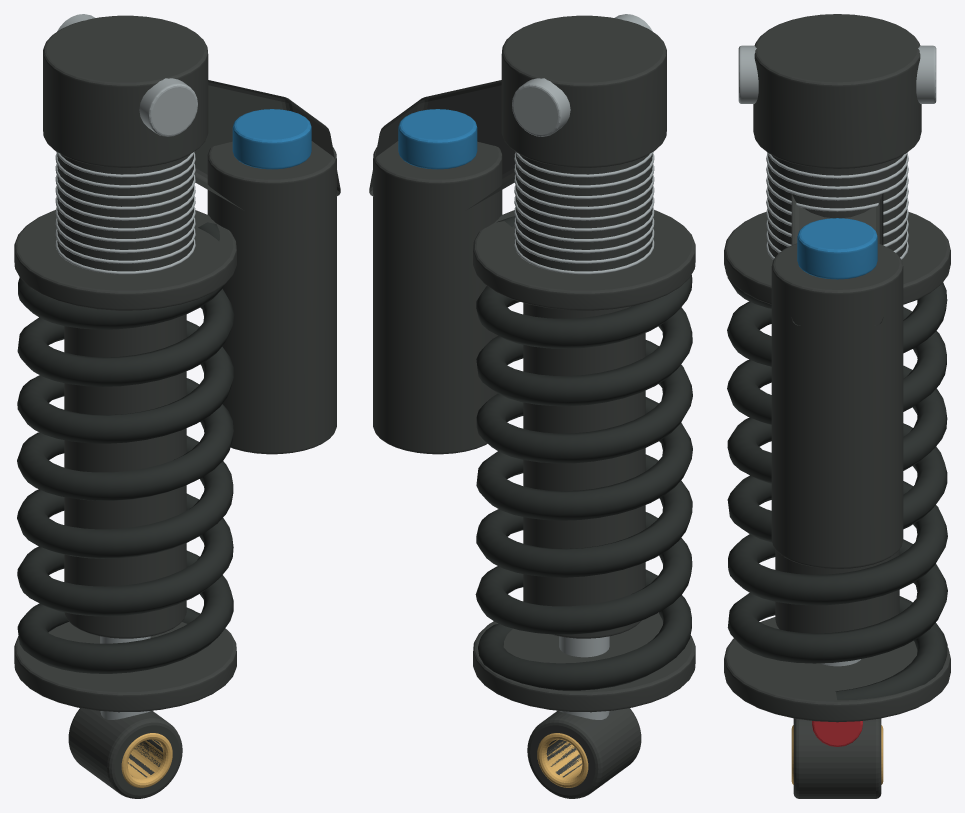
The model's file is marzocchi-bomber-cr--9edd3899.glb.
3 views of the same model, side by side, from view 1: azimuth 30°, elevation 25°; view 2: azimuth 150°, elevation 25°; view 3: azimuth 270°, elevation 25° (orthographic).
Parts seen in each view (by area): view 1: marzocchi-bomber-cr--9edd3899__link, marzocchi-bomber-cr--9edd3899__coil, marzocchi-bomber-cr--9edd3899__bolts, marzocchi-bomber-cr--9edd3899__adjuster, marzocchi-bomber-cr--9edd3899__stanchions; view 2: marzocchi-bomber-cr--9edd3899__link, marzocchi-bomber-cr--9edd3899__coil, marzocchi-bomber-cr--9edd3899__bolts, marzocchi-bomber-cr--9edd3899__adjuster, marzocchi-bomber-cr--9edd3899__stanchions; view 3: marzocchi-bomber-cr--9edd3899__link, marzocchi-bomber-cr--9edd3899__coil, marzocchi-bomber-cr--9edd3899__bolts, marzocchi-bomber-cr--9edd3899__adjuster, marzocchi-bomber-cr--9edd3899__rebound.
Part boxes in pixels (x1=…): marzocchi-bomber-cr--9edd3899__link: x1=14, y1=15, x2=340, y2=798; marzocchi-bomber-cr--9edd3899__coil: x1=17, y1=222, x2=234, y2=673; marzocchi-bomber-cr--9edd3899__bolts: x1=55, y1=14, x2=197, y2=719; marzocchi-bomber-cr--9edd3899__adjuster: x1=232, y1=109, x2=311, y2=169; marzocchi-bomber-cr--9edd3899__stanchions: x1=121, y1=733, x2=172, y2=787; marzocchi-bomber-cr--9edd3899__link: x1=369, y1=15, x2=695, y2=798; marzocchi-bomber-cr--9edd3899__coil: x1=475, y1=216, x2=692, y2=690; marzocchi-bomber-cr--9edd3899__bolts: x1=512, y1=14, x2=654, y2=719; marzocchi-bomber-cr--9edd3899__adjuster: x1=398, y1=109, x2=477, y2=169; marzocchi-bomber-cr--9edd3899__stanchions: x1=537, y1=733, x2=588, y2=787; marzocchi-bomber-cr--9edd3899__link: x1=724, y1=14, x2=950, y2=798; marzocchi-bomber-cr--9edd3899__coil: x1=727, y1=277, x2=947, y2=700; marzocchi-bomber-cr--9edd3899__bolts: x1=738, y1=45, x2=936, y2=666; marzocchi-bomber-cr--9edd3899__adjuster: x1=797, y1=218, x2=877, y2=279; marzocchi-bomber-cr--9edd3899__rebound: x1=812, y1=721, x2=862, y2=746.
Bounding box in the file's own units: 0.096 × 0.225 × 0.062.
